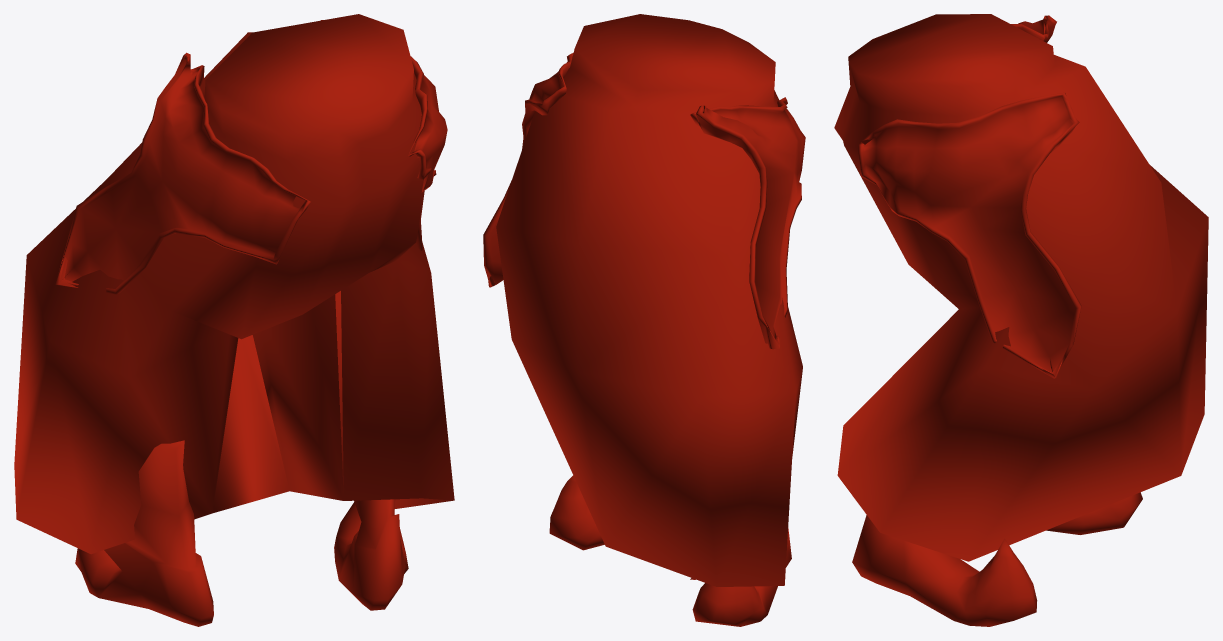
File: bot_000065.obj
3 views of the same model, side by side, from view 1: azimuth 30°, elevation 25°; view 2: azimuth 150°, elevation 25°; view 3: azimuth 270°, elevation 25° (orthographic). The views are drawn at different scales.
Parts seen in each view (by area): view 1: LowPoly_Warlock.004_Plane.004; view 2: LowPoly_Warlock.004_Plane.004; view 3: LowPoly_Warlock.004_Plane.004.
Part boxes in pixels (left/top/right/bottom): LowPoly_Warlock.004_Plane.004: left=14, top=14, right=454, bottom=626; LowPoly_Warlock.004_Plane.004: left=483, top=14, right=805, bottom=626; LowPoly_Warlock.004_Plane.004: left=834, top=14, right=1208, bottom=626.
Size of the model in its own units: 0.659 by 0.9623 by 0.597.
